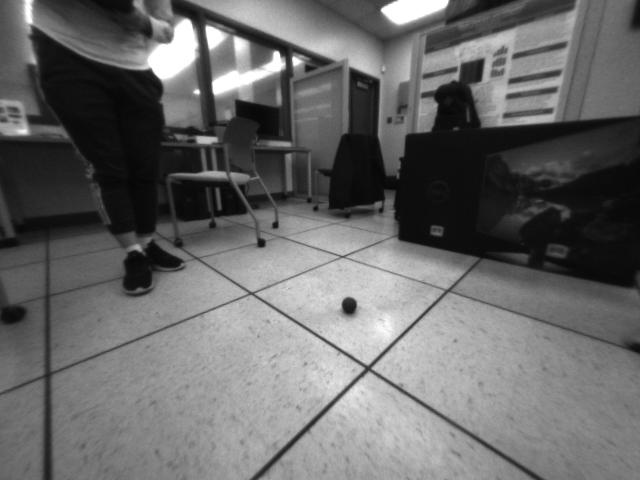dogtoy: (334, 288, 366, 321)
